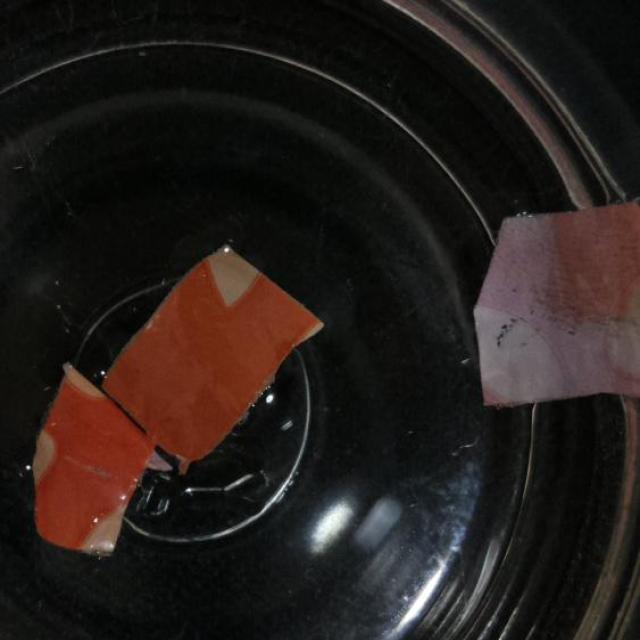fiber: (106, 243, 330, 465), (467, 194, 639, 409), (33, 357, 157, 565)
